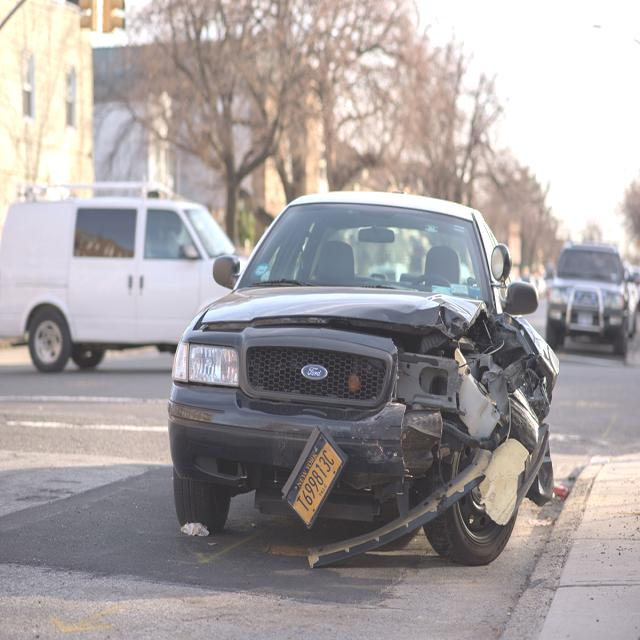accident: (150, 185, 570, 583)
